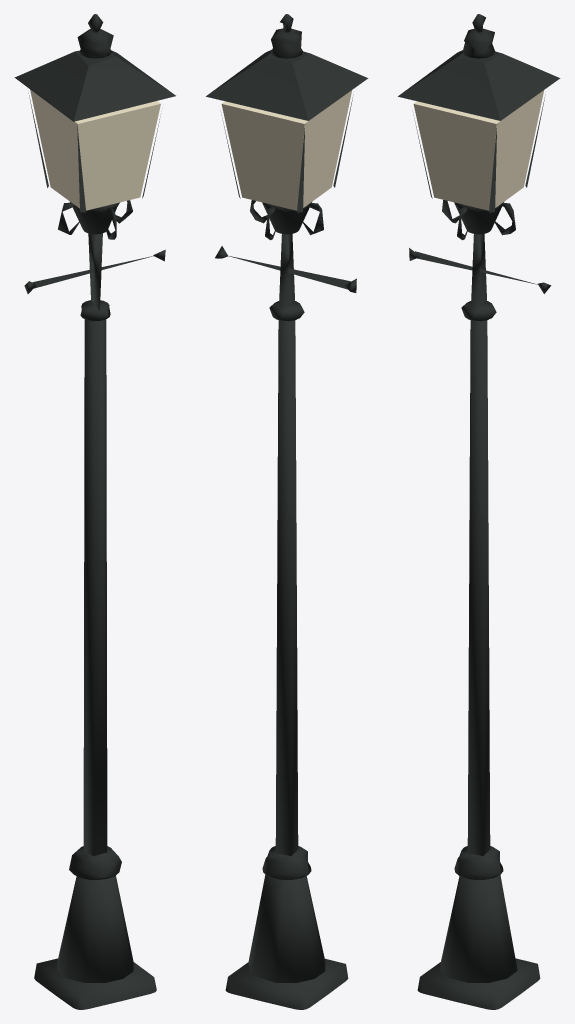
The model's file is streetLamp.far.glb.
The picture shows the model from 3 angles, left to right: view 1: azimuth 30°, elevation 25°; view 2: azimuth 150°, elevation 25°; view 3: azimuth 330°, elevation 25°; orthographic projection.
Visible parts, largest first — view 1: streetLamp_far; view 2: streetLamp_far; view 3: streetLamp_far.
Boxes of the visible parts, <box> form: streetLamp_far: <box>14,14,175,1009</box>; streetLamp_far: <box>206,14,368,1009</box>; streetLamp_far: <box>398,14,560,1009</box>.
Size of the model in its own units: 0.6253 by 4.24 by 0.4719.
